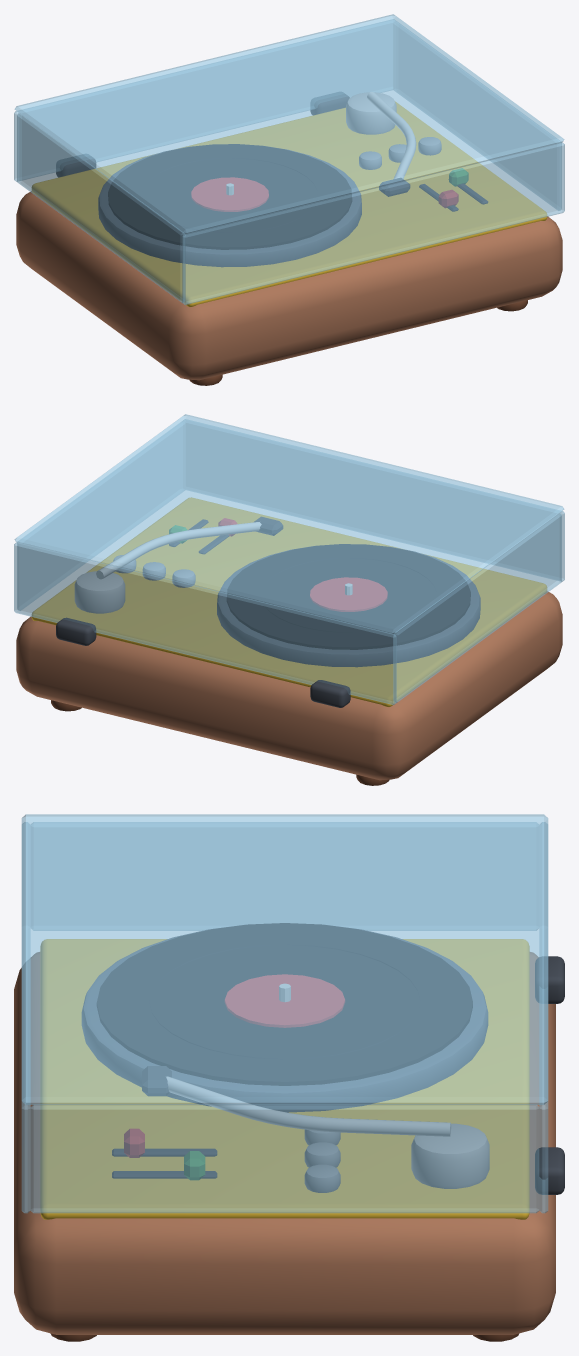
The model's file is toca_discos.glb.
The picture shows the model from 3 angles, top to bottom: view 1: azimuth 30°, elevation 25°; view 2: azimuth 150°, elevation 25°; view 3: azimuth 270°, elevation 25°; orthographic projection. The views are drawn at different scales.
Parts seen in each view (by area): view 1: tampa, toca_discos; view 2: tampa, toca_discos; view 3: toca_discos, tampa.
Boxes of the visible parts, box(x1,y1,x2,y2) form: tampa: box(14, 14, 564, 304); toca_discos: box(16, 92, 562, 385); tampa: box(14, 414, 564, 704); toca_discos: box(16, 497, 562, 785); toca_discos: box(14, 923, 564, 1341); tampa: box(21, 814, 548, 1213).
Size of the model in its own units: 0.46 by 0.193 by 0.366.
2 materials, 1 textured.
